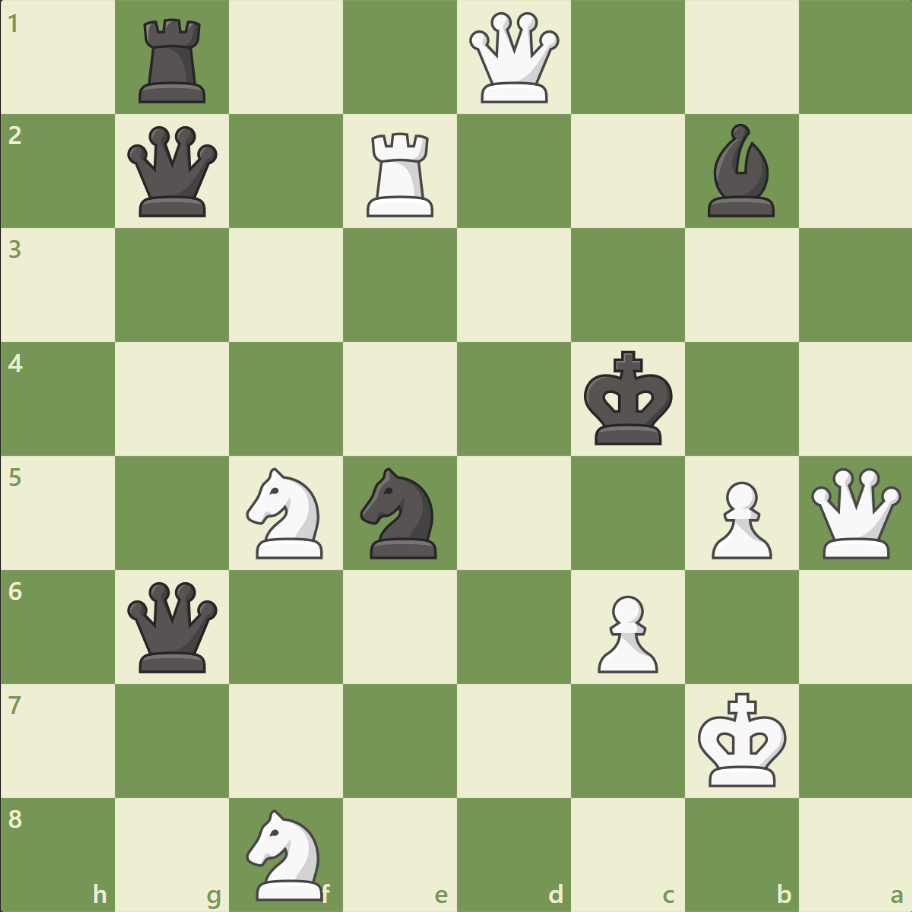K: (692, 685, 792, 793)
N: (238, 461, 335, 564), (238, 802, 335, 904)
P: (701, 473, 776, 564), (588, 586, 662, 677)
Q: (805, 463, 904, 562), (464, 9, 563, 108)
R: (360, 125, 442, 222)
b: (698, 120, 782, 222)
k: (579, 344, 679, 452)
n: (351, 461, 449, 564)
q: (124, 576, 223, 676), (124, 122, 223, 222)
r: (133, 12, 215, 109)
